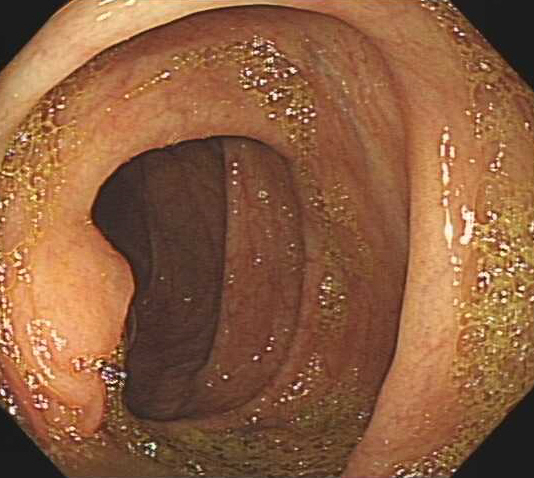others: (29, 221, 137, 436)
